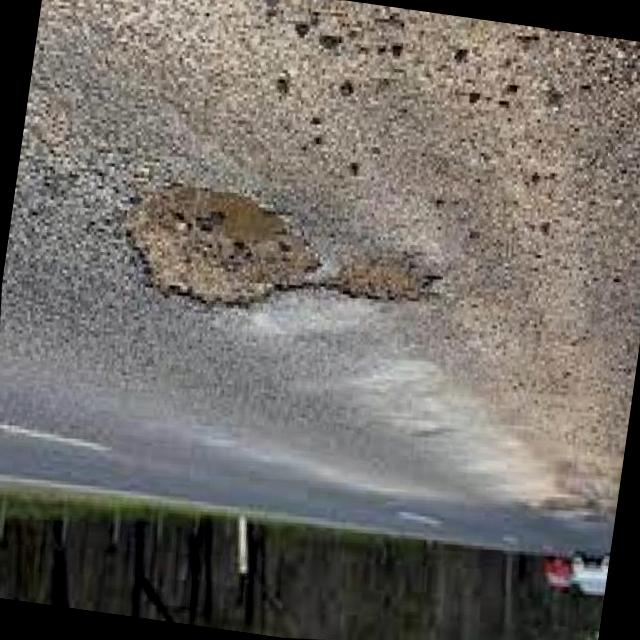Pathole: (124, 183, 322, 304)
